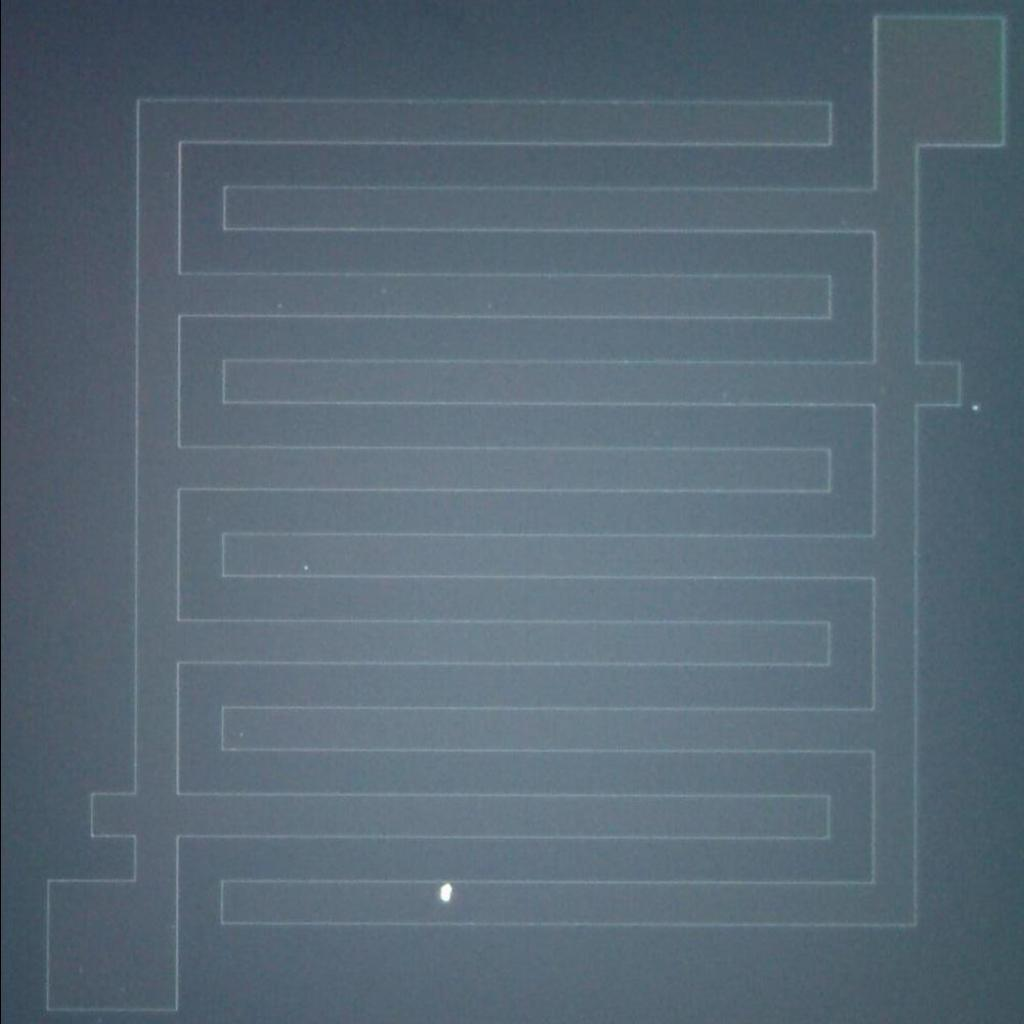budge circuit: (82, 777, 150, 849), (907, 349, 970, 421)
dot: (961, 396, 991, 422)
spot: (431, 878, 458, 910)
